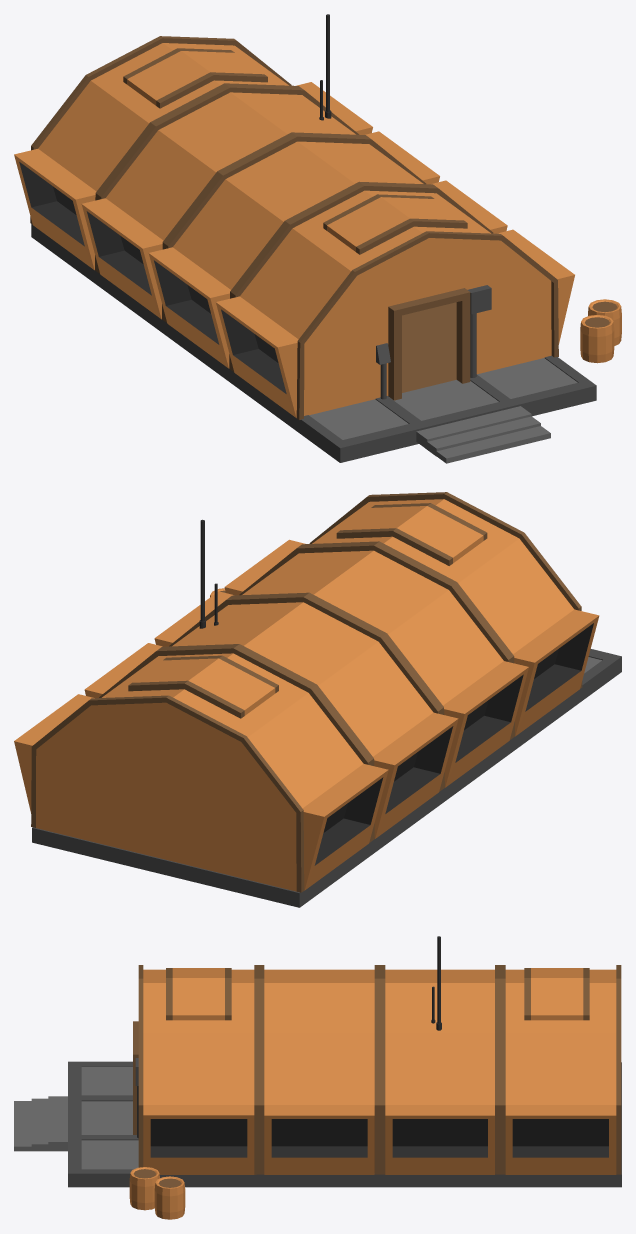
Rendered from Barracks.fbx.
3 views of the same model, one above another, from view 1: azimuth 30°, elevation 25°; view 2: azimuth 150°, elevation 25°; view 3: azimuth 270°, elevation 25° (orthographic). The views are drawn at different scales.
Visible parts, largest first — view 1: Cylinder.070, Plane.032, Cube.066, Cylinder.075, Cylinder.083, Cube.071, Cylinder.079, Cube.069, Cube.070, Cylinder.080; view 2: Cylinder.070, Plane.032, Cylinder.075, Cylinder.083; view 3: Cylinder.070, Plane.032, Cylinder.075, Cylinder.083, Cylinder.080, Cylinder.079, Cube.069, Cube.070, Cube.071, Cube.066.
Boxes of the visible parts, left/top/right/bottom form: Cylinder.070: left=14, top=36, right=574, bottom=419; Plane.032: left=31, top=224, right=596, bottom=462; Cube.066: left=388, top=288, right=470, bottom=400; Cylinder.075: left=323, top=194, right=467, bottom=254; Cylinder.083: left=123, top=48, right=267, bottom=108; Cube.071: left=435, top=426, right=550, bottom=463; Cylinder.079: left=580, top=315, right=614, bottom=363; Cube.069: left=416, top=406, right=531, bottom=448; Cube.070: left=425, top=416, right=540, bottom=456; Cylinder.080: left=588, top=299, right=621, bottom=345; Cylinder.070: left=14, top=492, right=599, bottom=892; Plane.032: left=32, top=649, right=621, bottom=907; Cylinder.075: left=336, top=503, right=487, bottom=565; Cylinder.083: left=128, top=655, right=278, bottom=718; Cylinder.070: left=138, top=965, right=621, bottom=1174; Plane.032: left=68, top=1061, right=621, bottom=1187; Cylinder.075: left=166, top=968, right=231, bottom=1020; Cylinder.083: left=524, top=968, right=589, bottom=1020; Cylinder.080: left=154, top=1176, right=185, bottom=1219; Cylinder.079: left=129, top=1167, right=159, bottom=1210; Cube.069: left=48, top=1096, right=67, bottom=1151; Cube.070: left=31, top=1098, right=51, bottom=1151; Cube.071: left=14, top=1101, right=31, bottom=1151; Cube.066: left=133, top=1021, right=138, bottom=1134.
Size of the model in its own units: 307 by 205 by 506.
